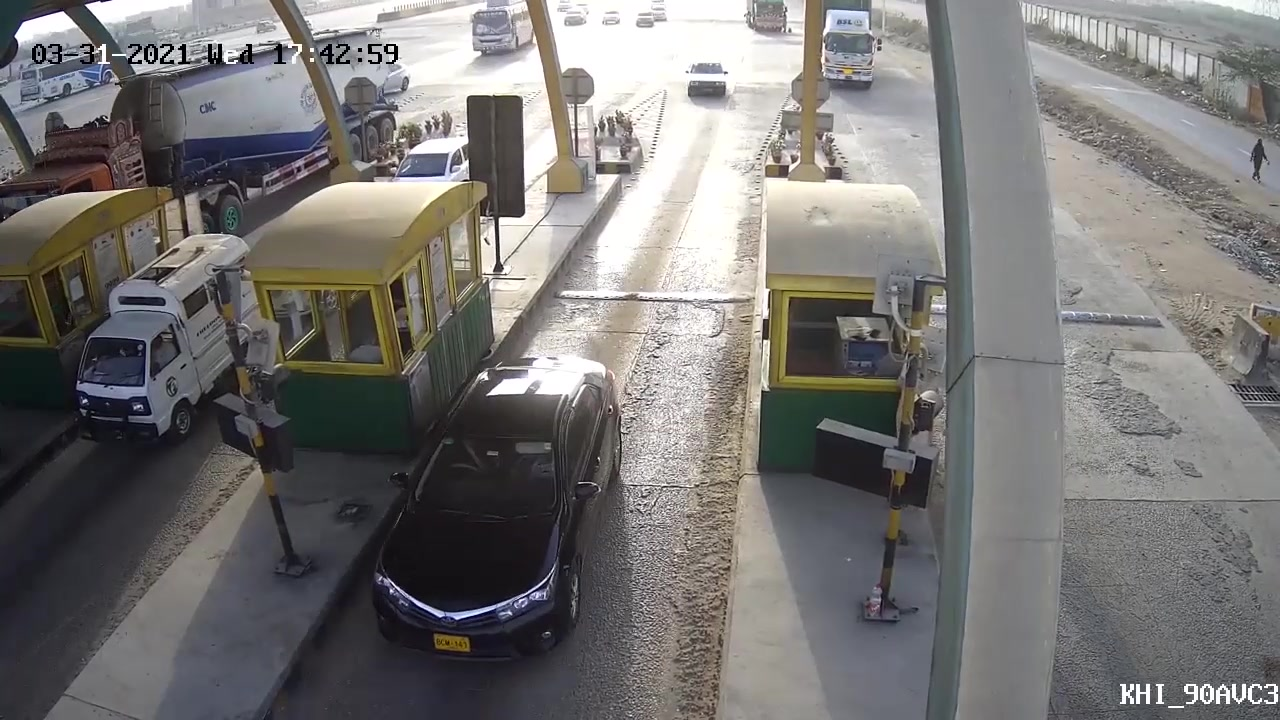F1: (366, 350, 632, 668)
